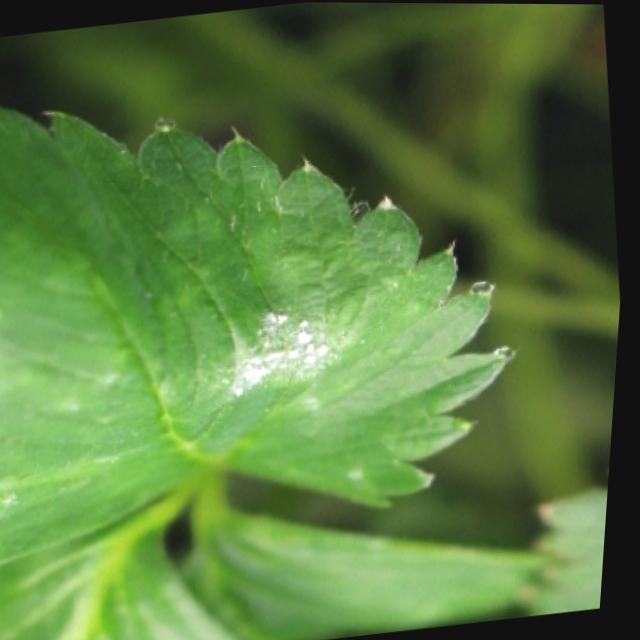Powdery Mildew Leaf: (0, 104, 521, 567)
